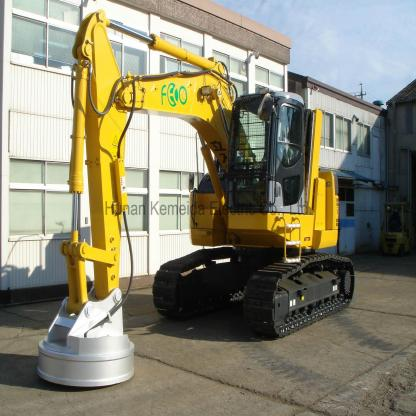excavator: (21, 14, 358, 391)
